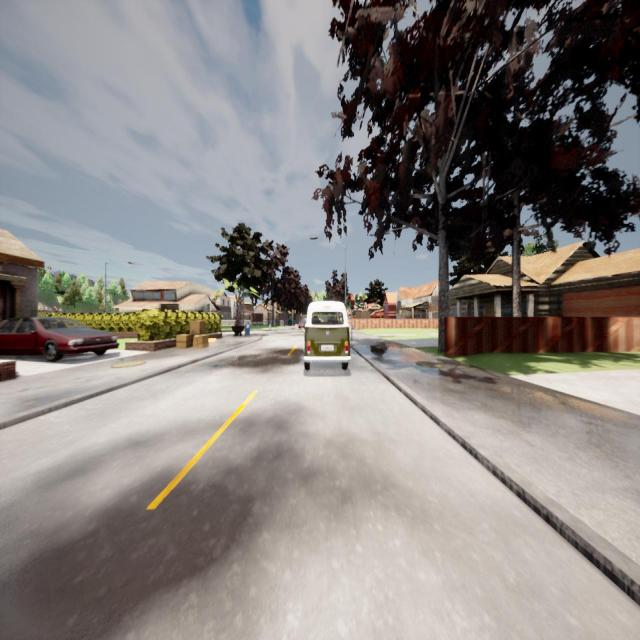Vehicle: (0, 316, 119, 361), (303, 302, 351, 371), (299, 320, 304, 330)
traffic_light: (351, 296, 354, 310)
